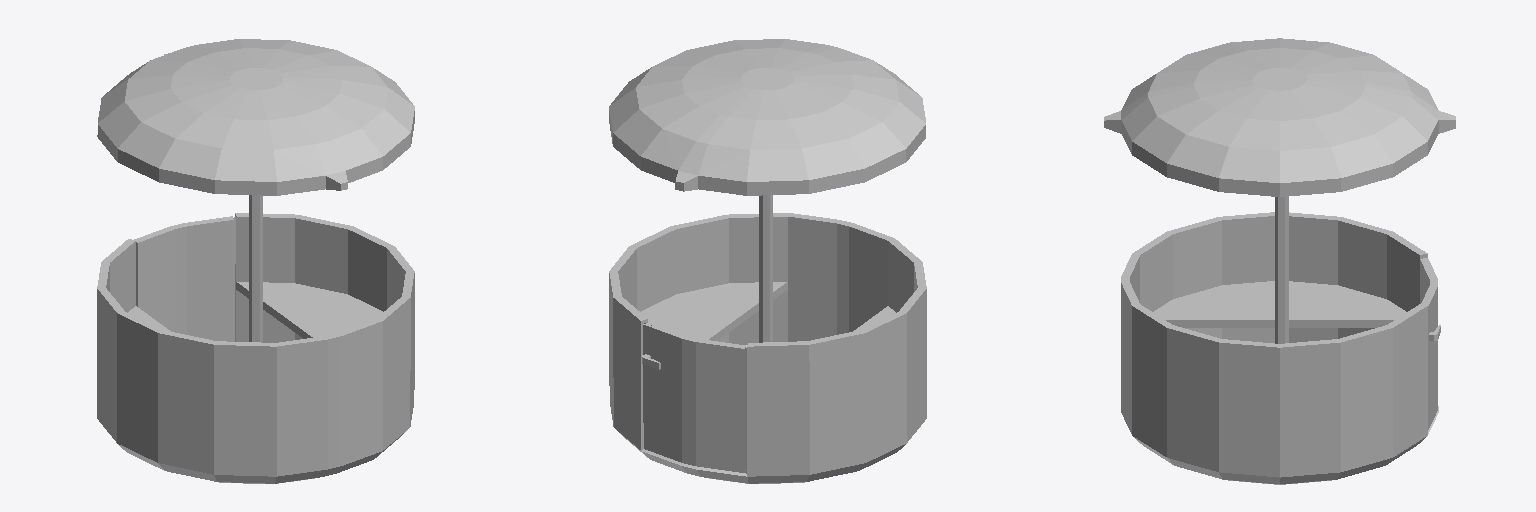
File: Cart.obj
3 views of the same model, side by side, from view 1: azimuth 30°, elevation 25°; view 2: azimuth 150°, elevation 25°; view 3: azimuth 270°, elevation 25° (orthographic).
Visible parts, largest first — view 1: Cabina_10.001; view 2: Cabina_10.001; view 3: Cabina_10.001.
Part boxes in pixels (x1,y1,x2,y2): Cabina_10.001: (97,39,414,483); Cabina_10.001: (609,39,926,483); Cabina_10.001: (1104,38,1455,484).
Size of the model in its own units: 1.54 by 1.87 by 1.68.